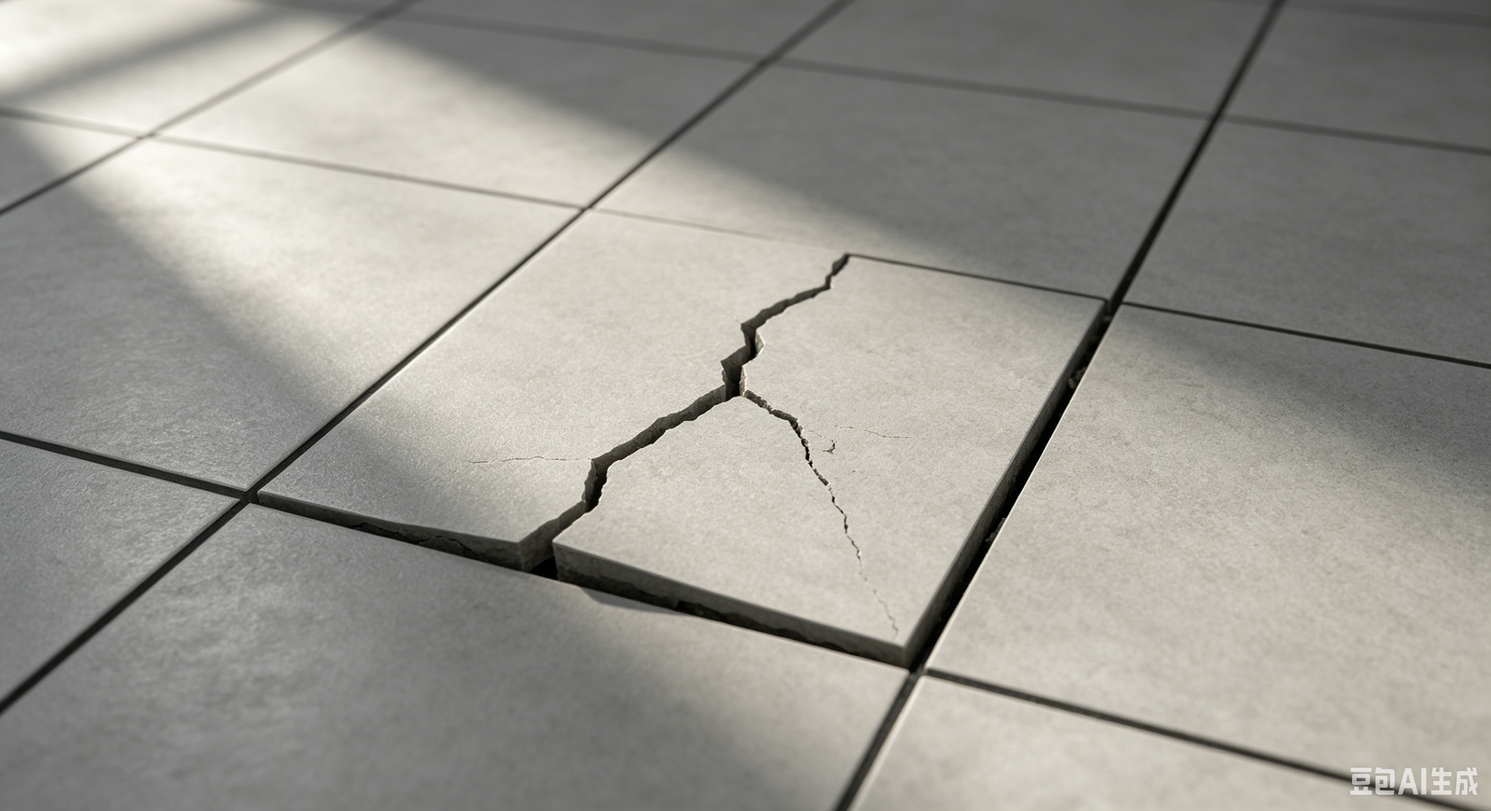floor_defect: (360, 463, 857, 624), (564, 378, 730, 470), (681, 292, 816, 386), (775, 235, 875, 303), (744, 429, 864, 458), (726, 386, 803, 430)
